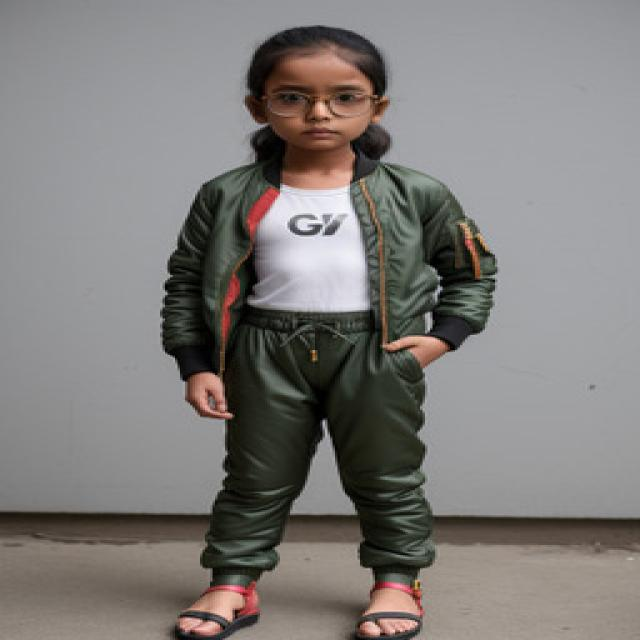Ai human 2: (150, 20, 518, 640)
